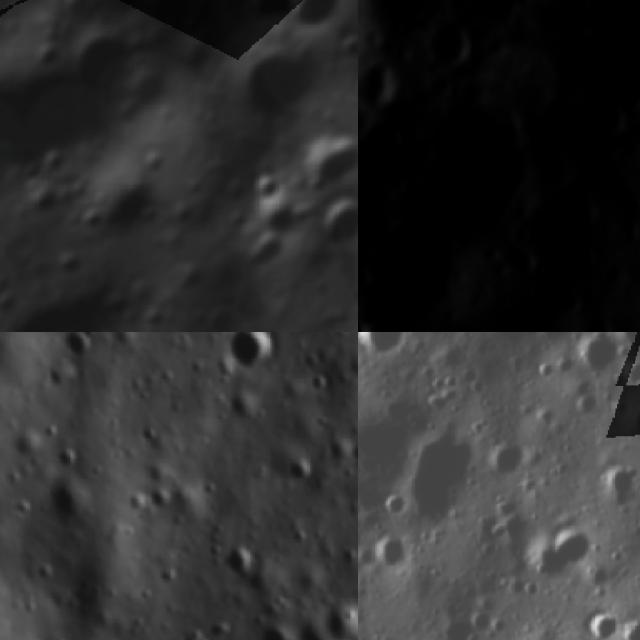crater: (424, 86, 557, 232), (358, 202, 493, 332), (398, 431, 490, 532), (230, 35, 323, 131), (56, 24, 150, 108), (533, 510, 604, 590), (568, 81, 638, 153), (230, 158, 292, 224), (414, 14, 478, 77), (302, 126, 358, 197), (273, 0, 351, 47), (358, 108, 414, 165), (562, 332, 620, 387), (314, 184, 358, 255), (367, 529, 421, 582), (597, 462, 640, 513), (192, 293, 248, 332), (223, 332, 274, 374), (219, 541, 267, 584), (93, 0, 148, 36), (488, 440, 531, 486), (358, 332, 415, 366), (30, 144, 70, 184), (318, 600, 358, 640), (65, 208, 105, 245), (612, 394, 640, 445), (574, 612, 622, 640), (284, 452, 320, 488), (571, 309, 625, 332), (55, 332, 95, 363), (607, 332, 640, 361), (383, 489, 410, 523), (255, 623, 294, 640), (616, 614, 640, 640), (429, 332, 472, 342)
